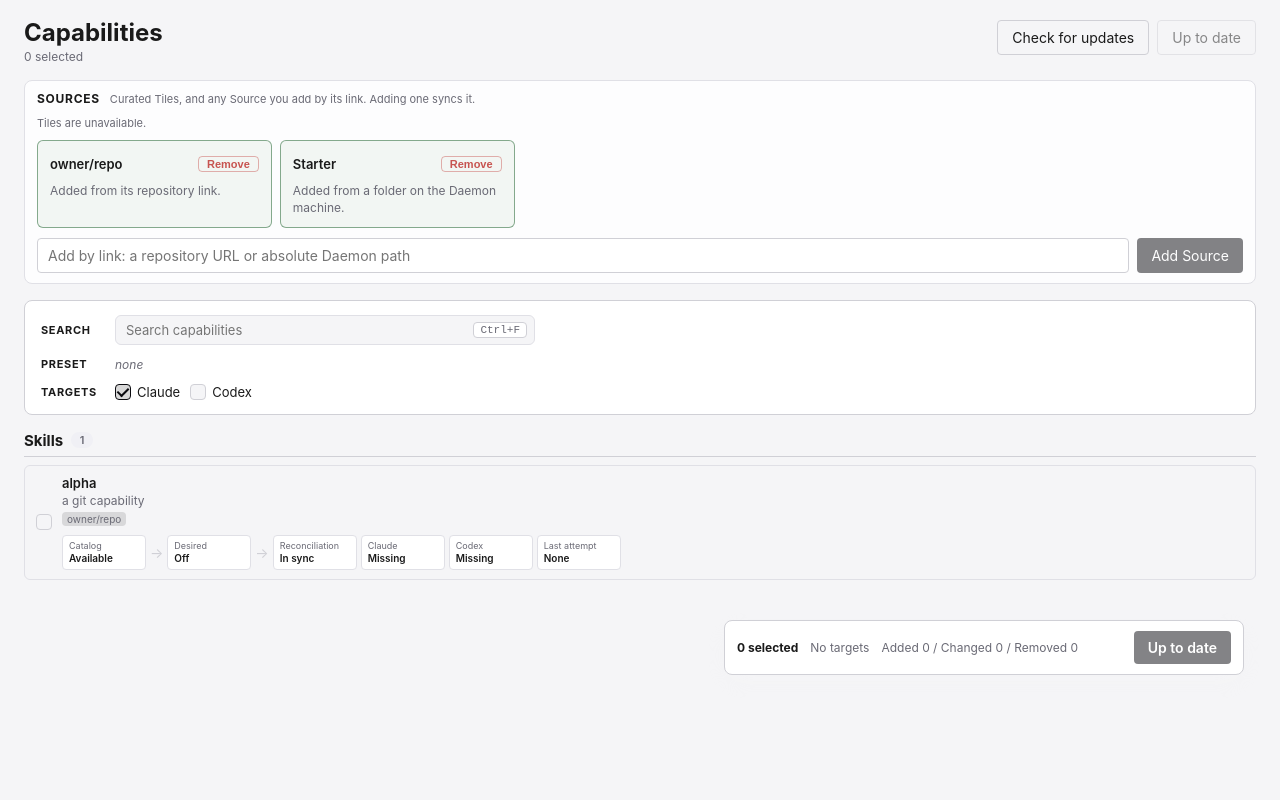
Test: KitDeployPage — action feedback toasts › a completed sync where all Sources are unchanged shows a success 'Up to date' toast
This screenshot has width=1280, height=800.
Click the button with test id "kit-check-updates": (1073, 38) [997,20,1149,55]
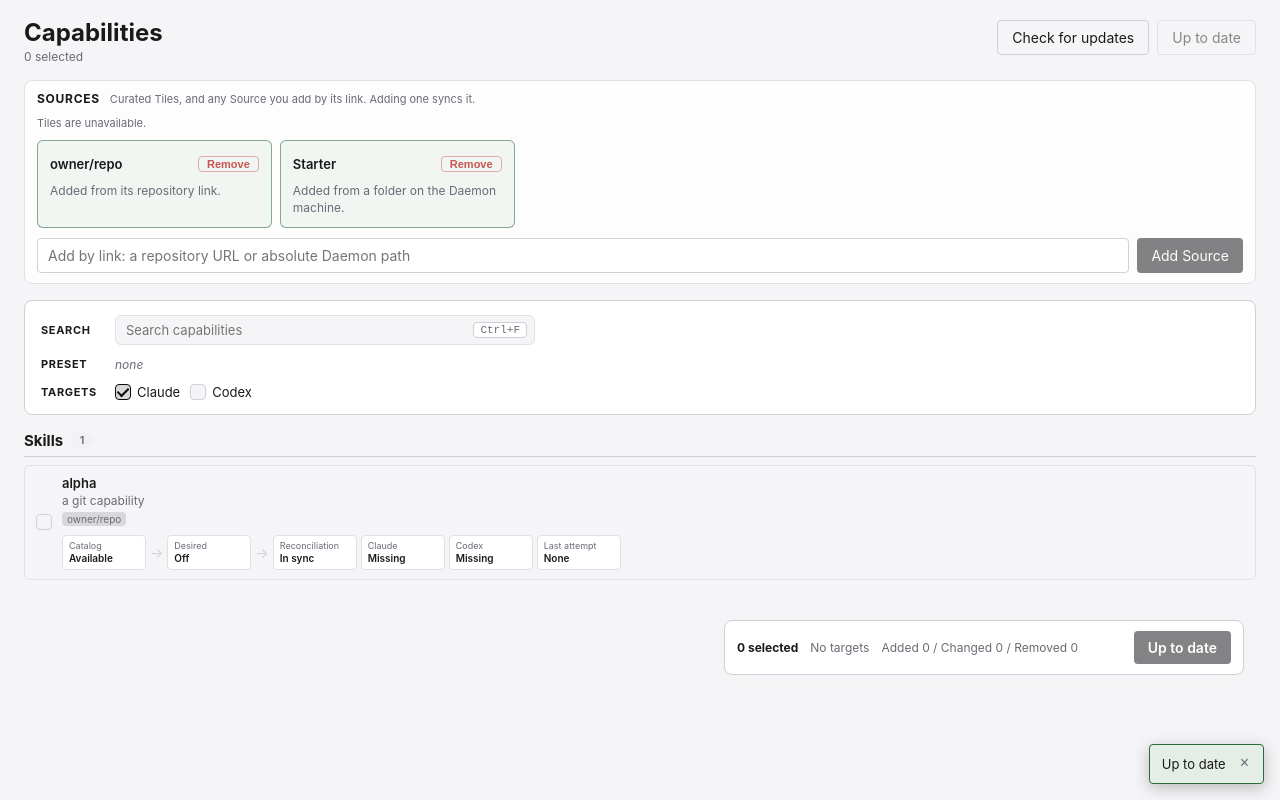
Expected: the button "Up to date" in the row of "Capabilities" is shown, [1157,20,1256,55]
Expected: the text "Up to date" is shown, [1162,755,1226,773]
